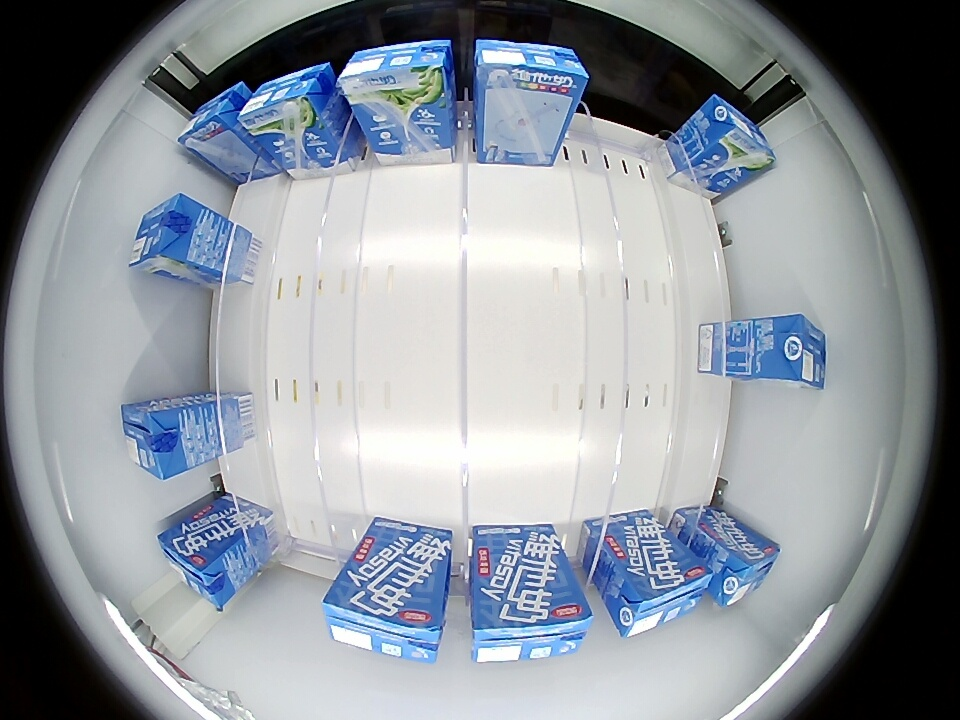weitanai: (322, 574, 446, 664), (471, 583, 594, 663), (607, 555, 711, 639), (337, 39, 455, 111), (473, 39, 590, 107), (236, 62, 336, 140), (157, 523, 241, 610), (691, 95, 777, 175), (129, 192, 204, 275), (120, 399, 191, 481), (177, 82, 248, 156), (709, 536, 781, 607), (762, 314, 826, 388)
